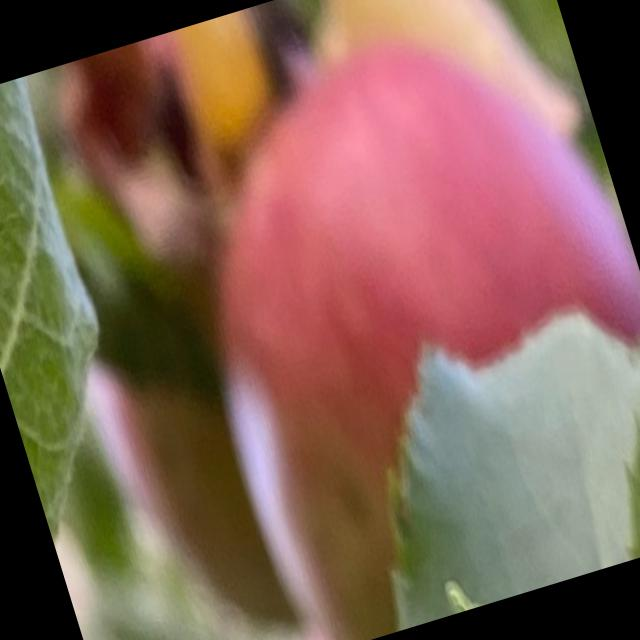Apples: (128, 0, 639, 639), (86, 319, 290, 639)
